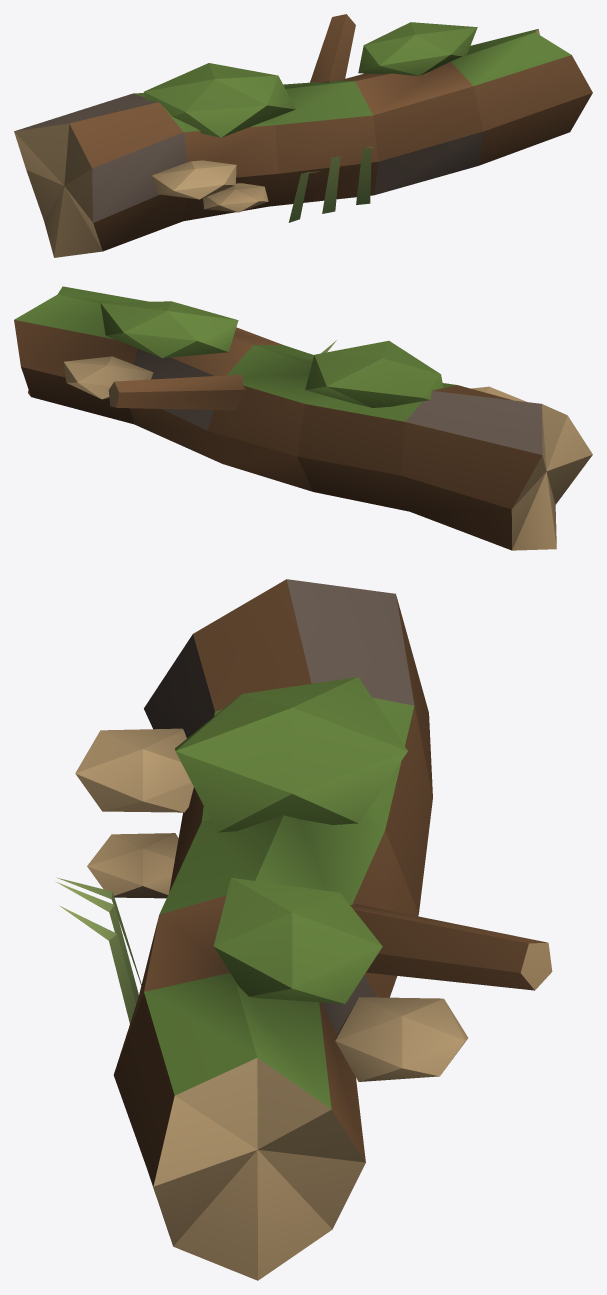
The model's file is deco-log.glb.
3 renders of one model, top to bottom at view 1: azimuth 30°, elevation 25°; view 2: azimuth 150°, elevation 25°; view 3: azimuth 270°, elevation 25°, orthographic. The views are drawn at different scales.
Visible parts, largest first — view 1: 0_log; view 2: 0_log; view 3: 0_log.
Part boxes in pixels (x1=…): 0_log: x1=14, y1=14, x2=592, y2=257; 0_log: x1=14, y1=286, x2=592, y2=550; 0_log: x1=55, y1=579, x2=552, y2=1280.
Size of the model in its own units: 1.81 by 0.4668 by 0.7525.
